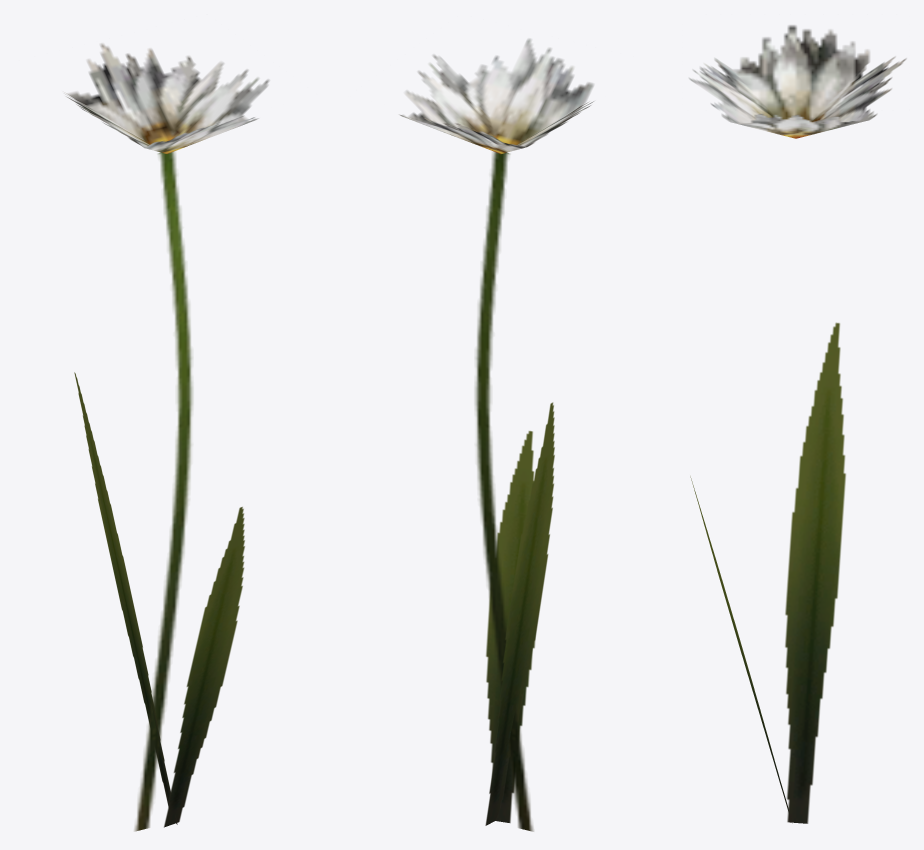
File: flower1_21.glb
The picture shows the model from 3 angles, left to right: view 1: azimuth 30°, elevation 25°; view 2: azimuth 150°, elevation 25°; view 3: azimuth 270°, elevation 25°; orthographic projection.
Parts seen in each view (by area): view 1: flower1_21; view 2: flower1_21; view 3: flower1_21.
Boxes of the visible parts, bbox=[...] form: flower1_21: bbox=[63, 43, 269, 831]; flower1_21: bbox=[399, 38, 593, 831]; flower1_21: bbox=[689, 25, 906, 823].
Bounding box in the file's own units: 0.1883 × 0.6914 × 0.1882.
Materials: 1 (1 with a texture image).
